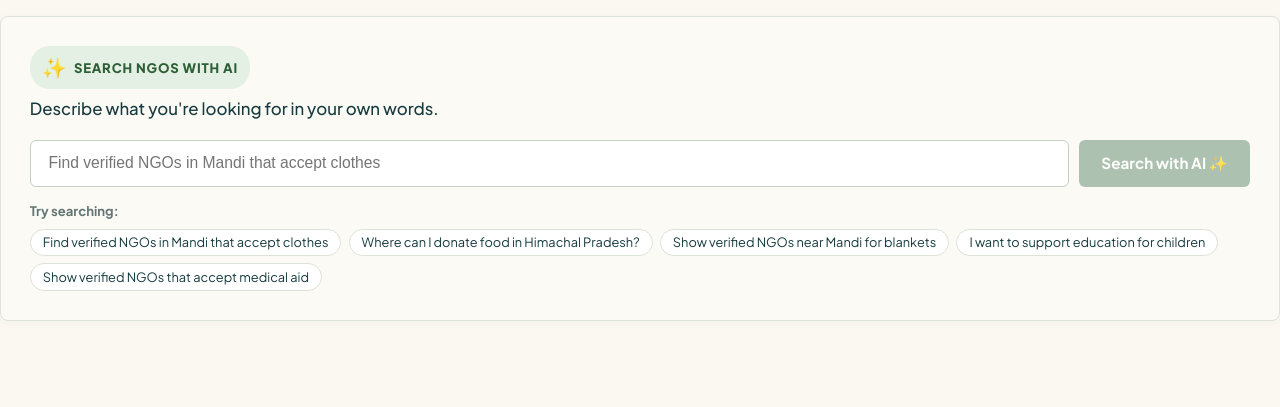
it: Feature 3: AI-Powered NGO Search UI › 5. renders error state gracefully when API fails
Type "Find clothes in Mandi" into the search field with placeholder "Find verified NGOs in Mandi that accept clothes" at (550, 163), box [30,140,1069,187]
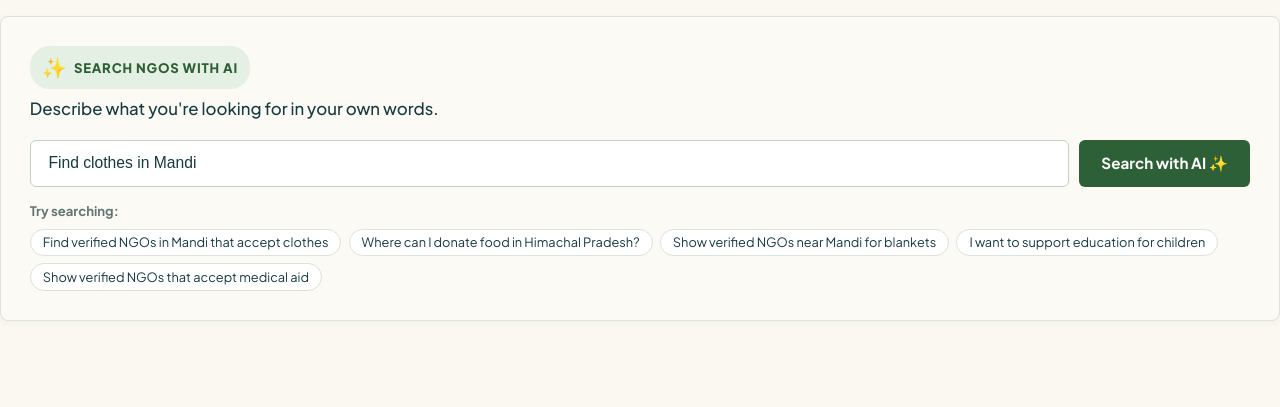
Click the button "Search with AI ✨" at (1165, 163), box [1079,140,1250,187]
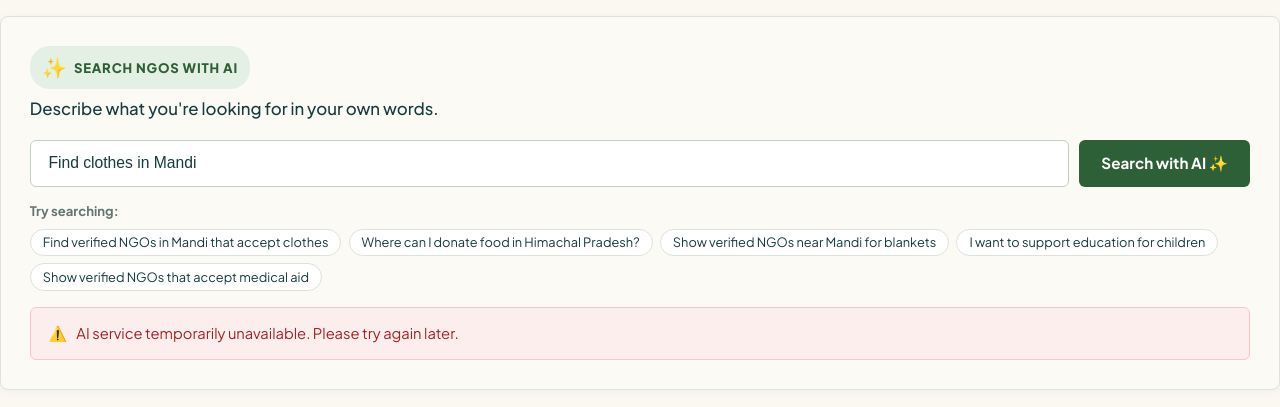
Check: the text "AI service temporarily unavailable. Please try again later." is shown, box [76,322,459,345]
